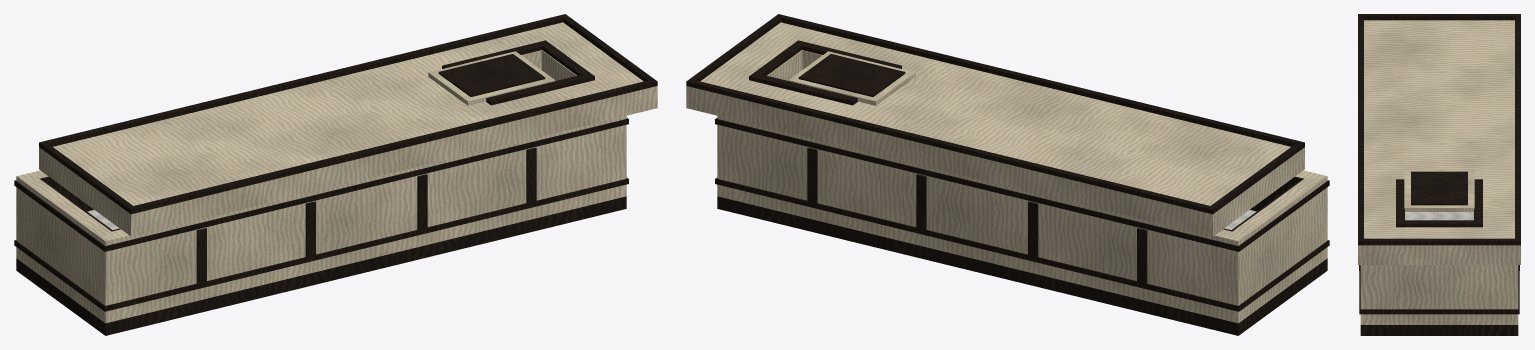
The model's file is coffin_lid_open.glb.
The picture shows the model from 3 angles, left to right: view 1: azimuth 30°, elevation 25°; view 2: azimuth 150°, elevation 25°; view 3: azimuth 270°, elevation 25°; orthographic projection. The views are drawn at different scales.
Parts seen in each view (by area): view 1: Lid, coffin_lid_open, Window; view 2: Lid, coffin_lid_open, Window; view 3: Lid, coffin_lid_open, Window.
Part boxes in pixels (bbox=[...]): Lid: bbox=[39, 14, 657, 236]; coffin_lid_open: bbox=[14, 116, 628, 335]; Window: bbox=[428, 51, 555, 105]; Lid: bbox=[686, 14, 1304, 236]; coffin_lid_open: bbox=[715, 116, 1329, 335]; Window: bbox=[788, 51, 915, 105]; Lid: bbox=[1358, 14, 1520, 264]; coffin_lid_open: bbox=[1359, 212, 1519, 335]; Window: bbox=[1404, 170, 1474, 211].
Bounding box in the file's own units: 2.08 × 0.444 × 0.6.
Materials: 4 (4 with a texture image).
